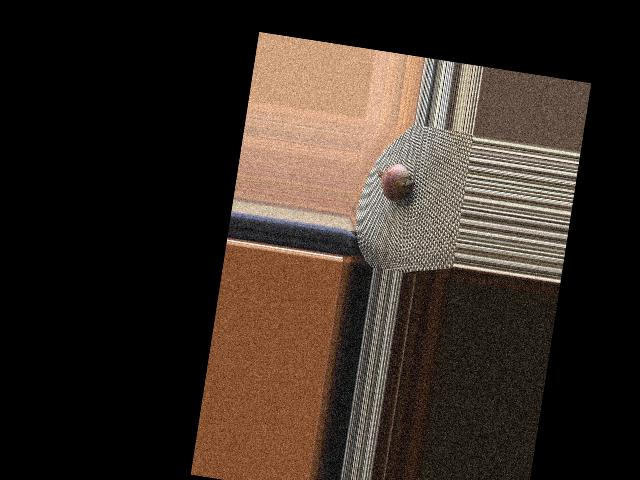beet: (366, 154, 419, 209)
